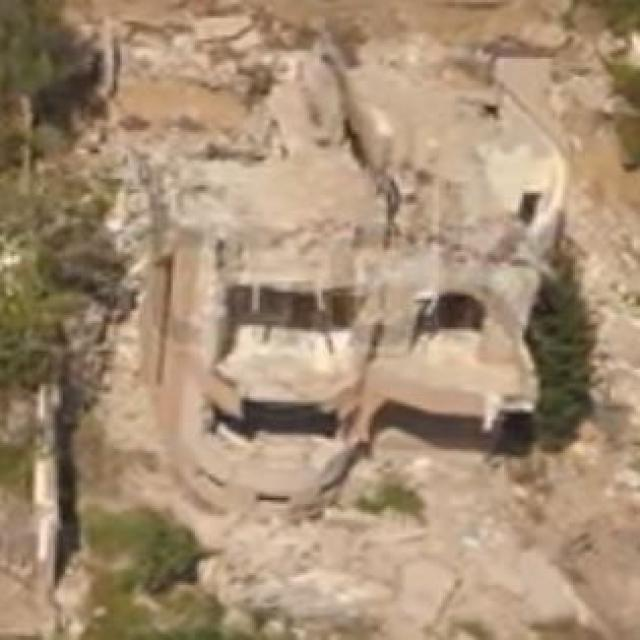collapsed_building: (120, 45, 542, 512)
